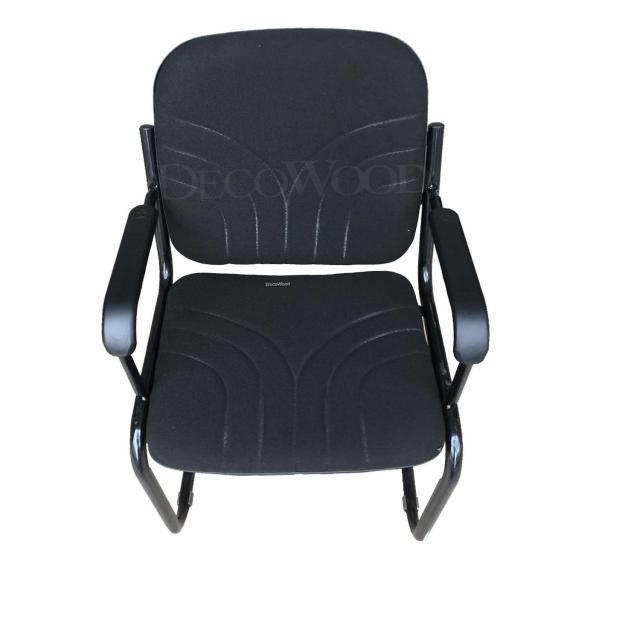chair: (97, 25, 482, 544)
